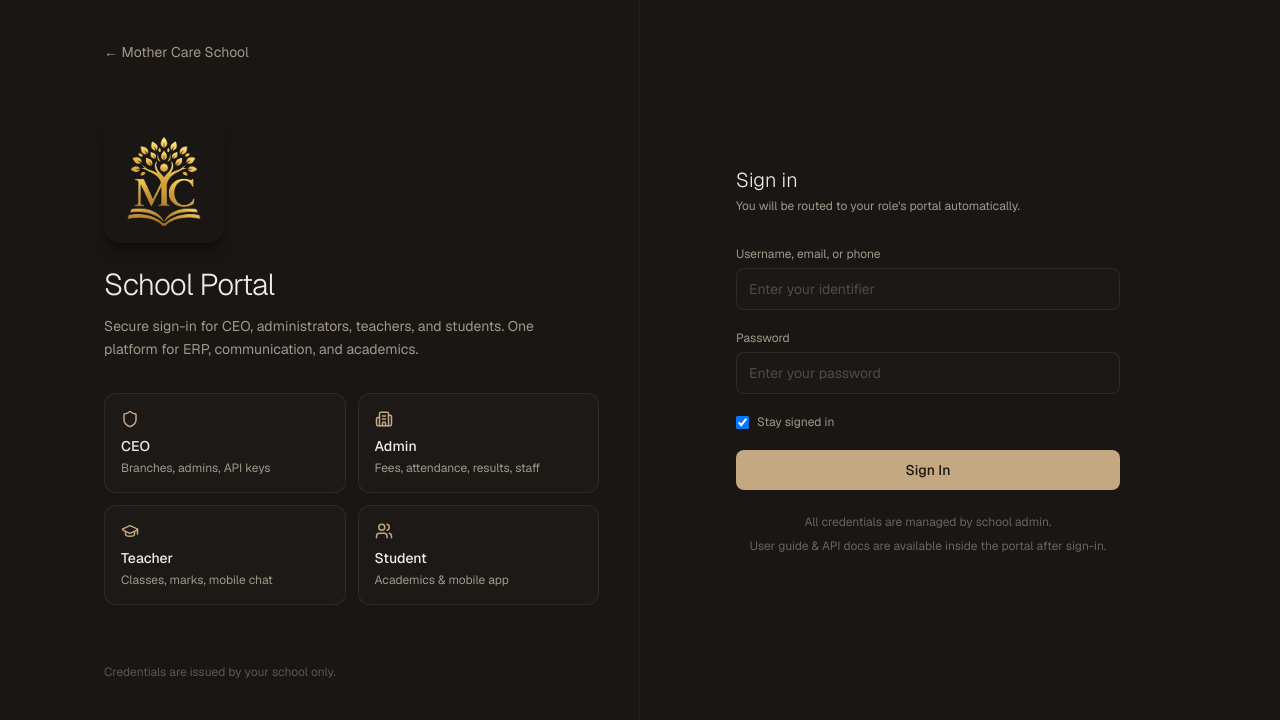
it: Auth Navigation — Login Page › shows error when identifier is empty
Click the button "Sign In": (928, 470) [736,450,1120,490]
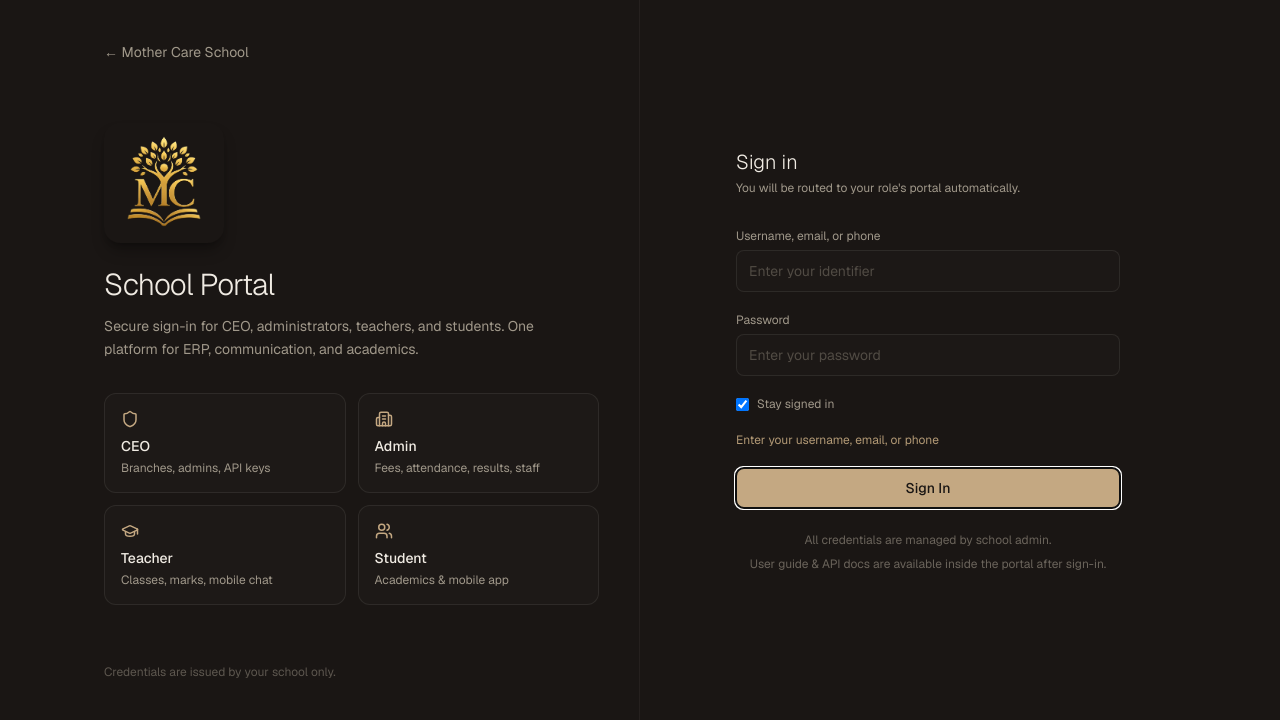
Result: the text "Enter your username, email, or phone" is shown at [736,432,939,448]
